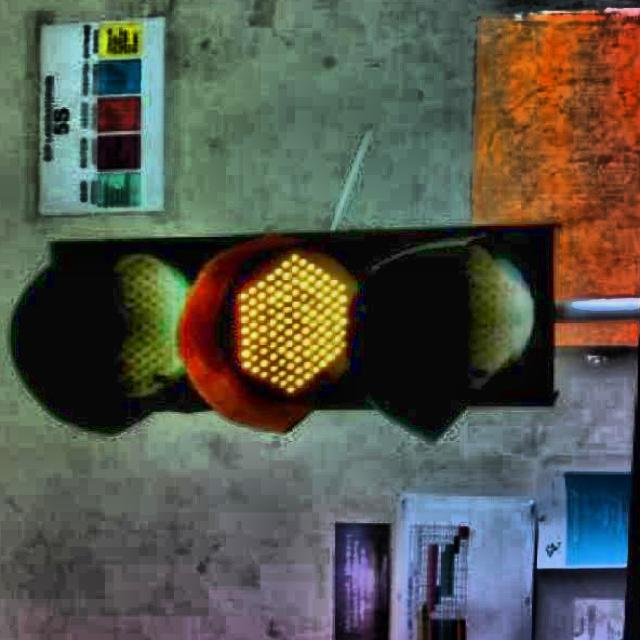yellow: (14, 235, 551, 412)
